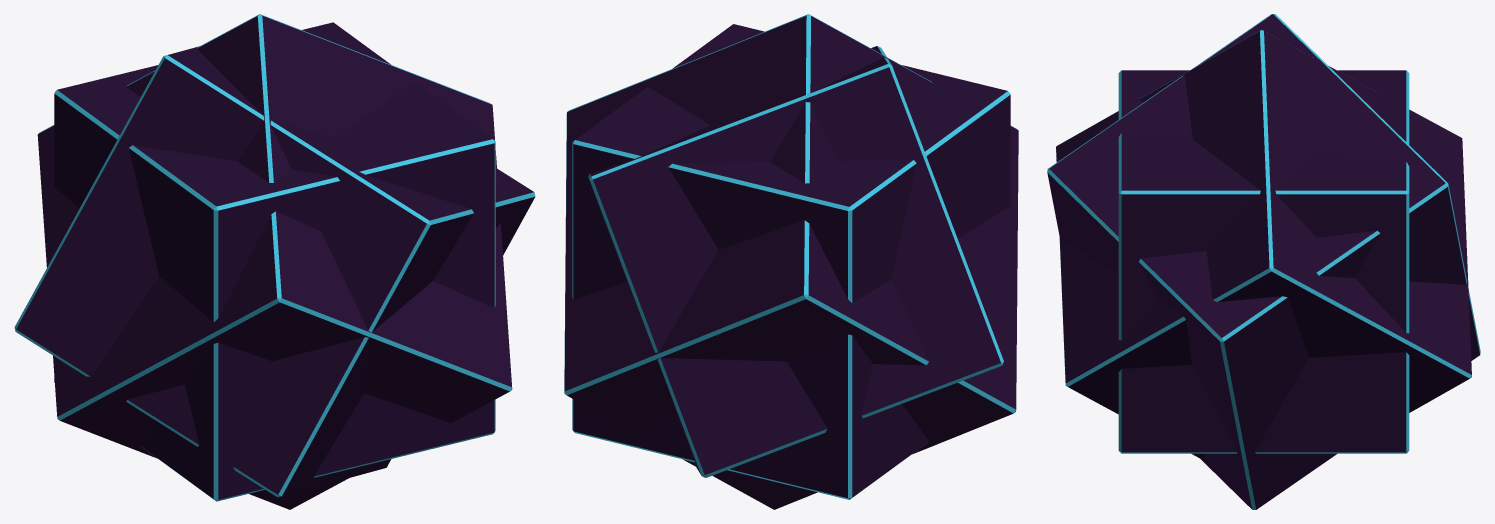
Rendered from triple_cube_export.fbx.
3 views of the same model, side by side, from view 1: azimuth 30°, elevation 25°; view 2: azimuth 150°, elevation 25°; view 3: azimuth 270°, elevation 25° (orthographic). The views are drawn at different scales.
Parts seen in each view (by area): view 1: pCube5; view 2: pCube5; view 3: pCube5.
Part boxes in pixels (left/top/right/bottom): pCube5: left=14, top=14, right=535, bottom=509; pCube5: left=564, top=14, right=1018, bottom=509; pCube5: left=1047, top=14, right=1480, bottom=509.
Bounding box in the file's own units: 1.68 × 1.71 × 1.49.
